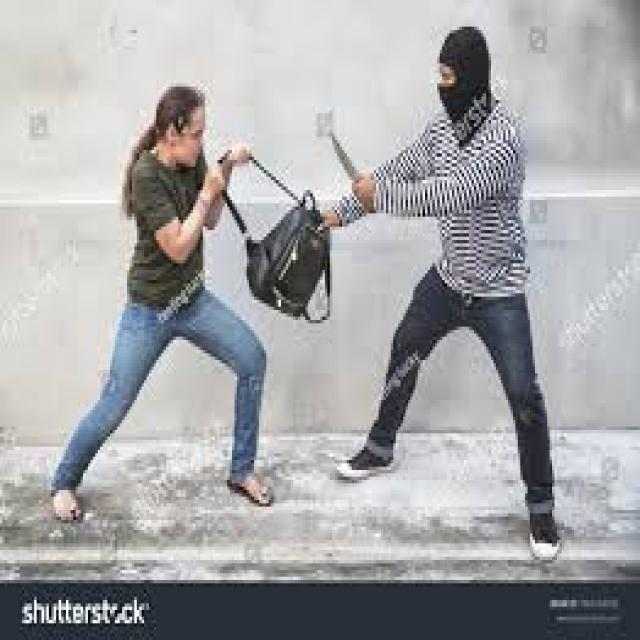Theft_Snatching: (129, 114, 525, 328)
